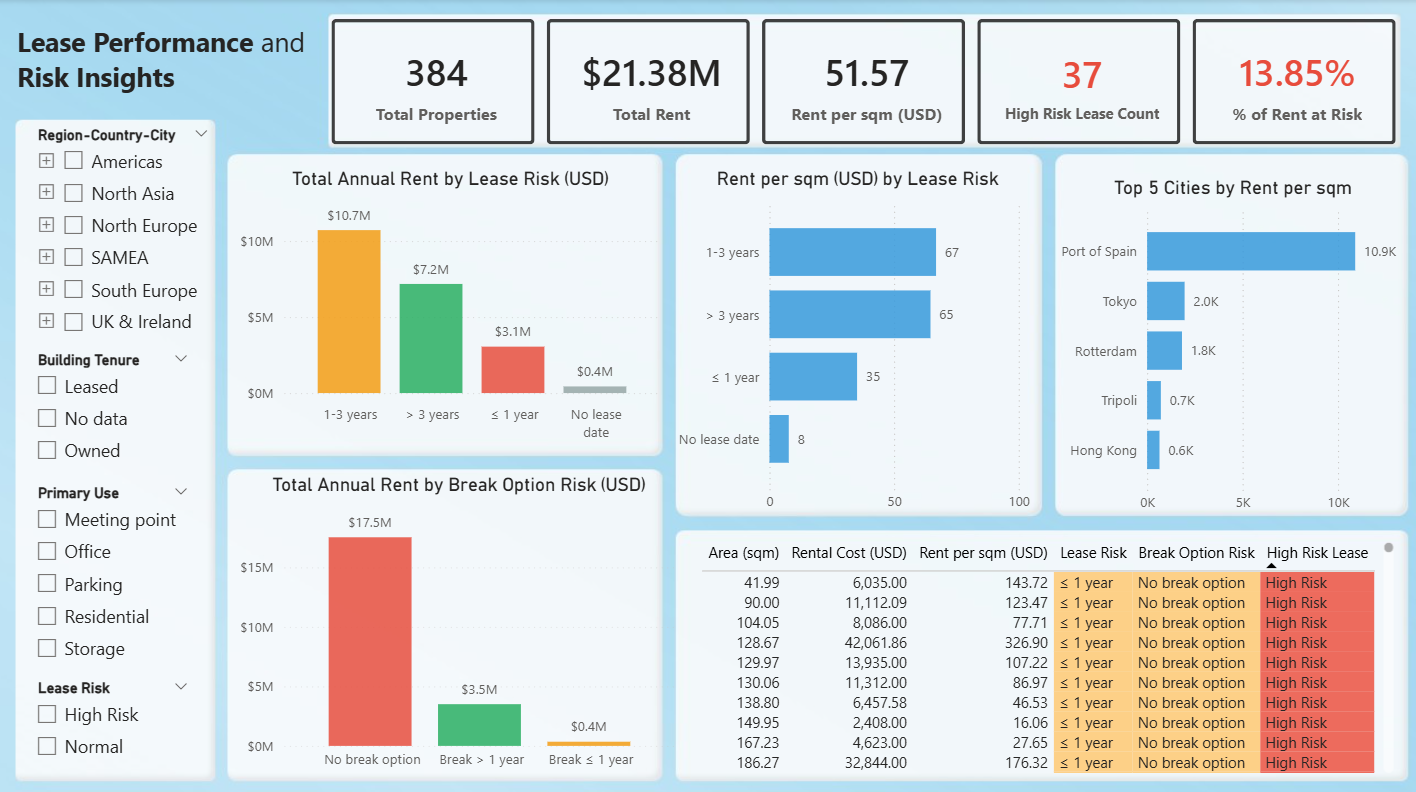

The dashboard page shown, as its layout file describes it:
{"tool":"powerbi","page":{"name":"Lease Performance and Risk Insights","canvas":[1280,720],"ordinal":0},"visuals":[{"type":"cardVisual","fields":{"Data":["Portfolio.Total Properties","Portfolio.Total Rent","Portfolio.Rent per sqm","Portfolio.High Risk Lease Count","Portfolio.% Share of Rent at Risk"]},"box":[283.2,0,996.3,149.9],"z":0},{"type":"columnChart","title":"Total Annual Rent by Lease Risk (USD)","fields":{"Y":["Portfolio.Total Rent"],"Category":["Portfolio.Lease Risk"]},"box":[212,151.4,390.7,254.4],"z":1000},{"type":"columnChart","title":"Total Annual Rent by Break Option Risk (USD)","fields":{"Y":["Portfolio.Total Rent"],"Category":["Portfolio.Break Option Risk"]},"box":[212,427,405.8,275.6],"z":2000},{"type":"clusteredBarChart","fields":{"Y":["Portfolio.Rent per sqm"],"Category":["Portfolio.Lease Risk"]},"box":[602.7,151.4,343.7,319.5],"z":3000},{"type":"tableEx","fields":{"Values":["Sum(Portfolio.Area sqm)","Sum(Portfolio.Rental Cost USD)","Portfolio.Rent per sqm","Portfolio.Lease Risk","Portfolio.Break Option Risk","Portfolio.High Risk Lease"]},"box":[628.6,484.3,634.3,218.6],"z":4000},{"type":"slicer","fields":{"Values":["Portfolio.Region","Portfolio.Country","Portfolio.City"]},"box":[22.7,109,178.7,202.9],"z":5000},{"type":"slicer","fields":{"Values":["Portfolio.Building Tenure"]},"box":[22.7,311.9,160.5,121.1],"z":6000},{"type":"slicer","fields":{"Values":["Portfolio.Primary Use"]},"box":[22.7,433.1,160.5,175.6],"z":7000},{"type":"slicer","fields":{"Values":["Portfolio.High Risk Lease"]},"box":[22.7,608.7,160.5,93.9],"z":8000},{"type":"barChart","title":"Top 5 Cities by Rent per sqm","fields":{"Category":["Portfolio.City"],"Y":["Portfolio.Rent per sqm"]},"box":[946.4,159,333.1,311.9],"z":9000},{"type":"textbox","box":[11.7,16.7,285,91.7],"z":10000}]}

Visuals, with their boxes in screenshot pixels (x1, y1, x2, y2), scaled from the page's 1280x720 canvas onto the 1416x792 screenshot:
cardVisual - Portfolio.Total Properties x Portfolio.Total Rent: left=313, top=0, right=1415, bottom=165
"Total Annual Rent by Lease Risk (USD)" columnChart: left=235, top=167, right=667, bottom=446
"Total Annual Rent by Break Option Risk (USD)" columnChart: left=235, top=470, right=683, bottom=773
clusteredBarChart - Portfolio.Rent per sqm x Portfolio.Lease Risk: left=667, top=167, right=1047, bottom=518
tableEx - Sum(Portfolio.Area sqm) x Sum(Portfolio.Rental Cost USD): left=695, top=533, right=1397, bottom=773
slicer - Portfolio.Region x Portfolio.Country: left=25, top=120, right=223, bottom=343
slicer - Portfolio.Building Tenure: left=25, top=343, right=203, bottom=476
slicer - Portfolio.Primary Use: left=25, top=476, right=203, bottom=670
slicer - Portfolio.High Risk Lease: left=25, top=670, right=203, bottom=773
"Top 5 Cities by Rent per sqm" barChart: left=1047, top=175, right=1415, bottom=518
textbox: left=13, top=18, right=328, bottom=119
